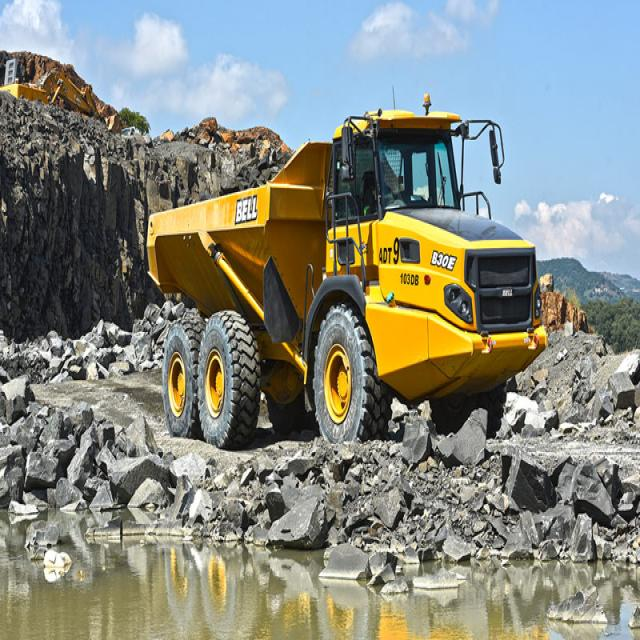dump_truck: (142, 94, 541, 467)
excavator: (5, 39, 106, 144)
